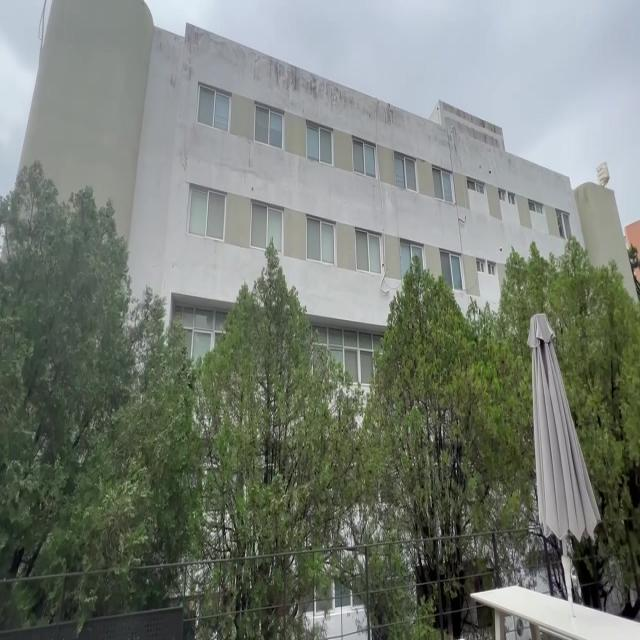building: (140, 25, 504, 289)
